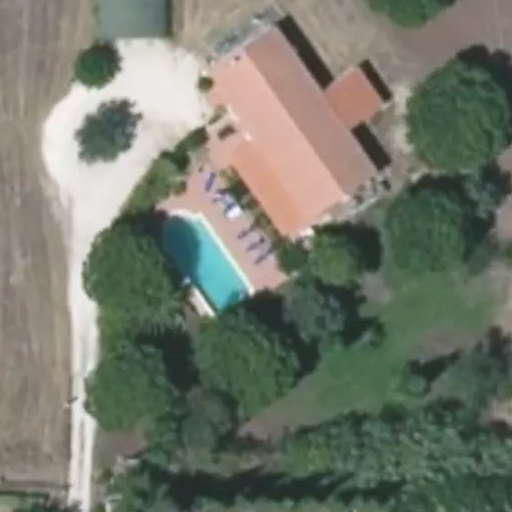pool: (220, 222, 291, 261)
